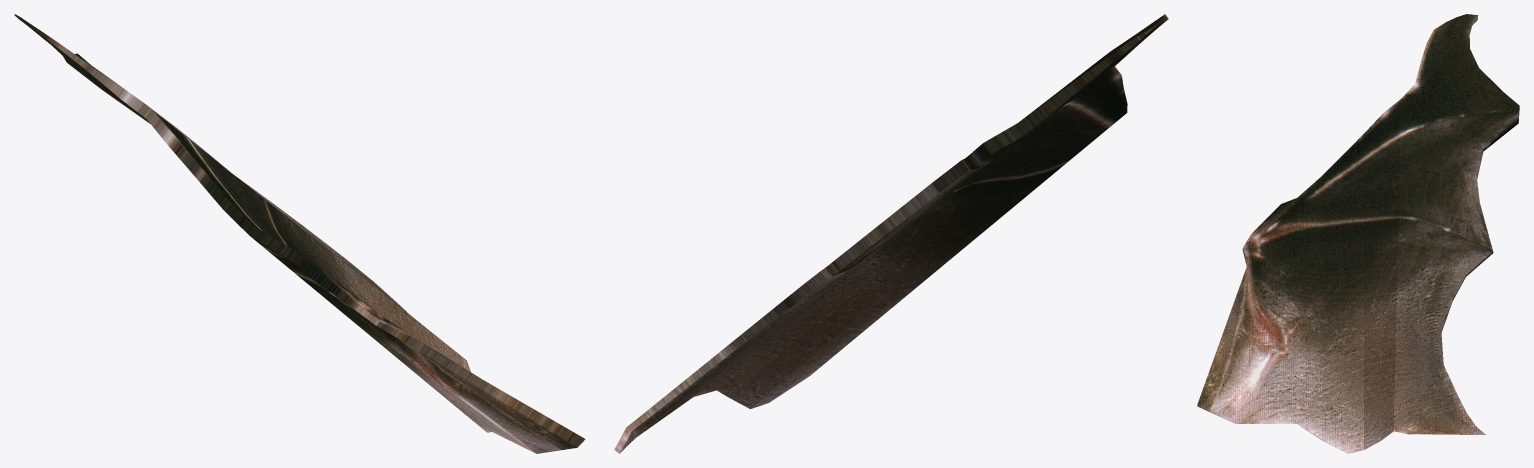
Rendered from bat_rightWing.obj.
The picture shows the model from 3 angles, left to right: view 1: azimuth 30°, elevation 25°; view 2: azimuth 150°, elevation 25°; view 3: azimuth 270°, elevation 25°; orthographic projection. The views are drawn at different scales.
Parts seen in each view (by area): view 1: ps1_bat_rightWing.001; view 2: ps1_bat_rightWing.001; view 3: ps1_bat_rightWing.001.
Part boxes in pixels (x1,y1,x2,y2): ps1_bat_rightWing.001: (14,14,585,453); ps1_bat_rightWing.001: (614,14,1168,453); ps1_bat_rightWing.001: (1197,14,1519,453).
Bounding box in the file's own units: 0.3424 × 0.3601 × 0.3413.
Materials: 1 (1 with a texture image).
